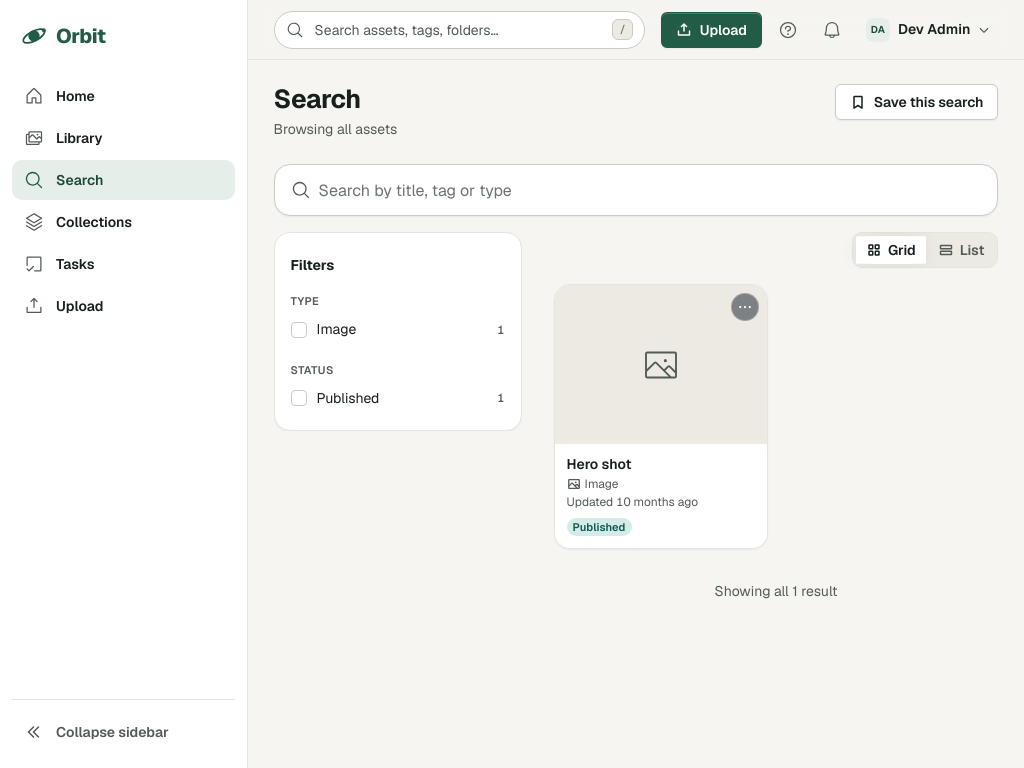
Scenario: SearchPage › saves the current query as a named smart collection
Expected: the text "Hero shot" is shown, [567,456,631,474]
Click the button "Save this search".
click(917, 102)  # box [835,84,998,120]
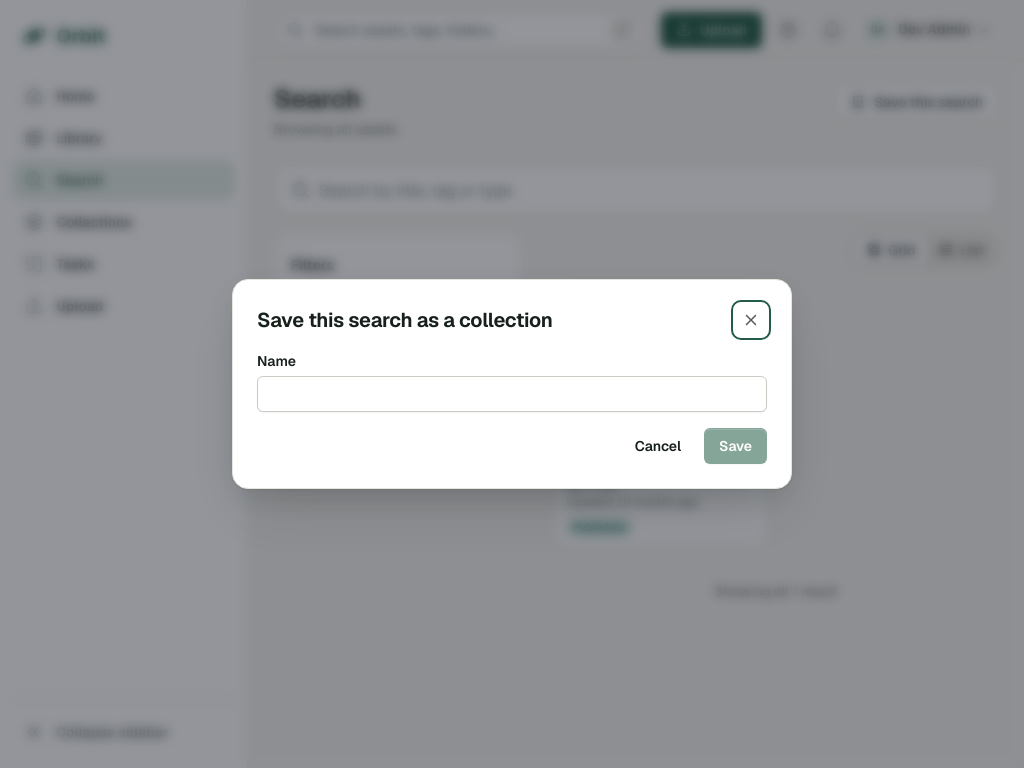
Type "My saved search" into the field labelled "Name".
click(512, 394); type("My saved search")  # box [257,376,767,412]
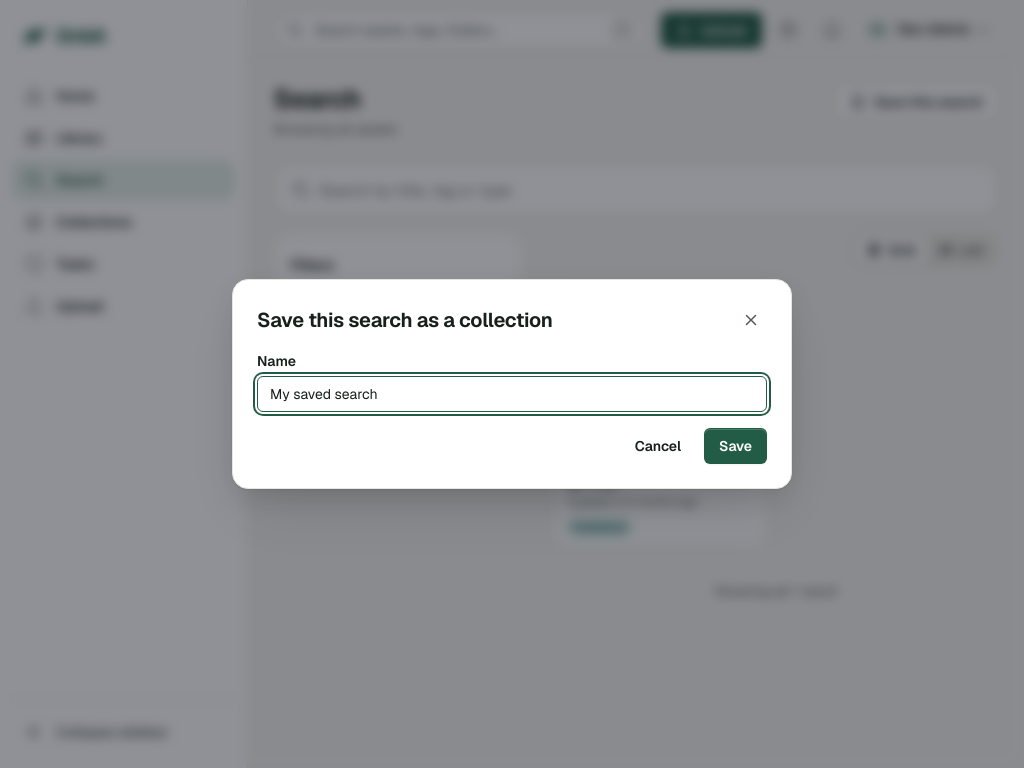
Click the button "Save".
click(736, 446)  # box [704,428,767,464]
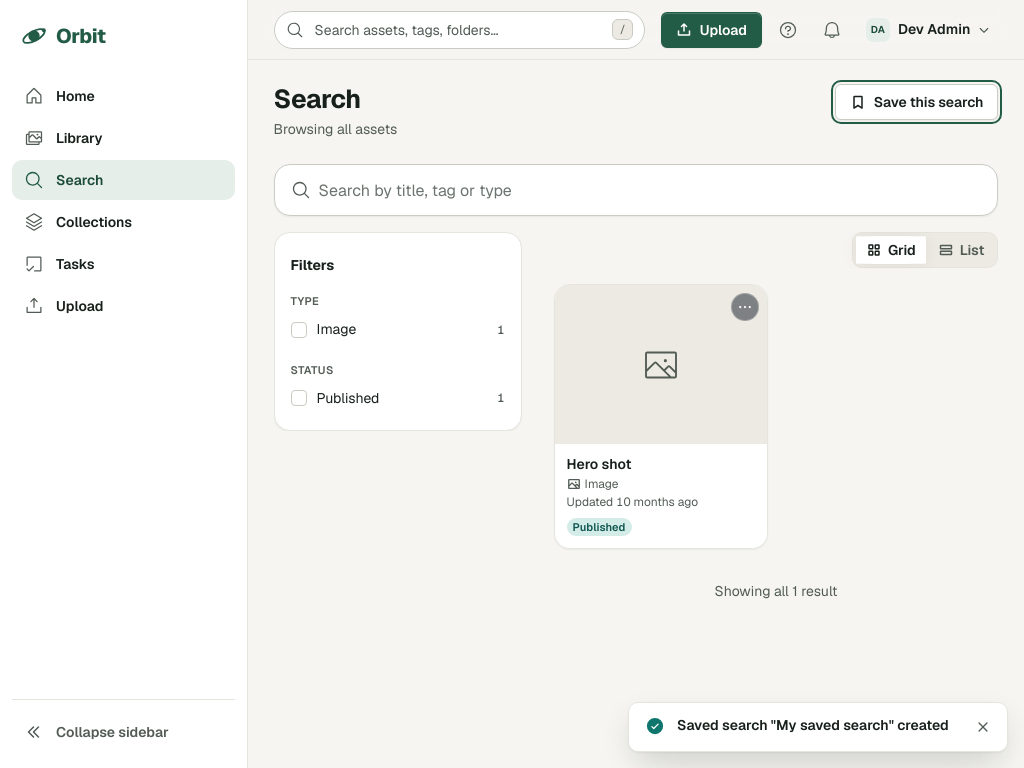
Now the text "Saved search \"My saved search\" created" is shown, box [677,715,955,736]
